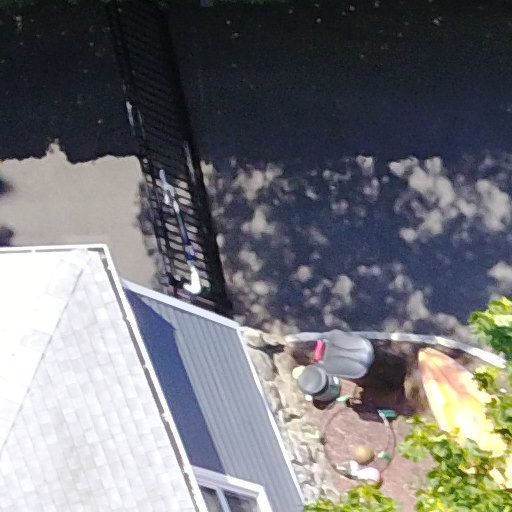kayak: (411, 331, 512, 499)
toy: (408, 329, 512, 503)
trash bin: (311, 317, 387, 394)
